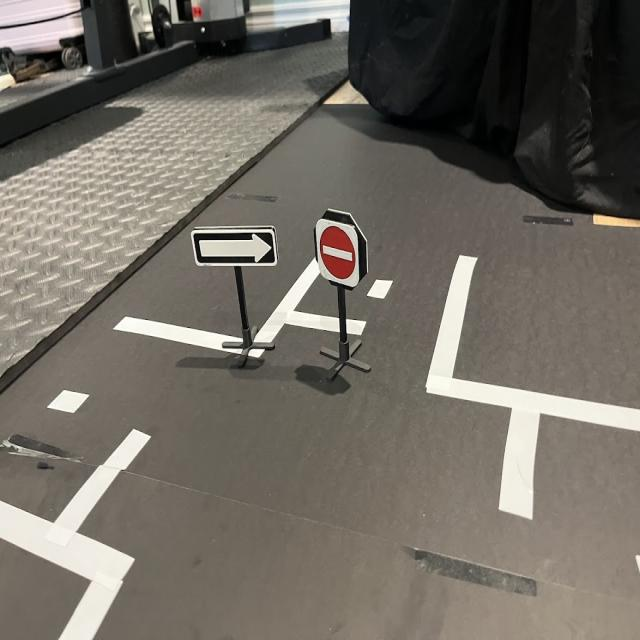sign_noentry: (316, 219, 362, 289)
sign_oneway_right: (191, 225, 280, 269)
